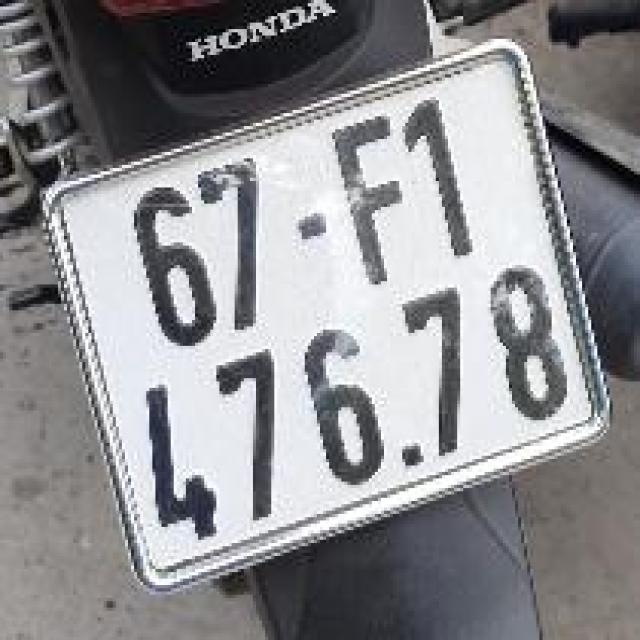1: (395, 77, 498, 271)
4: (117, 363, 236, 558)
6: (121, 169, 231, 363), (290, 311, 400, 499)
7: (197, 332, 303, 541), (390, 277, 501, 472), (189, 142, 292, 347)
8: (475, 253, 586, 440)
F: (319, 95, 434, 298)
